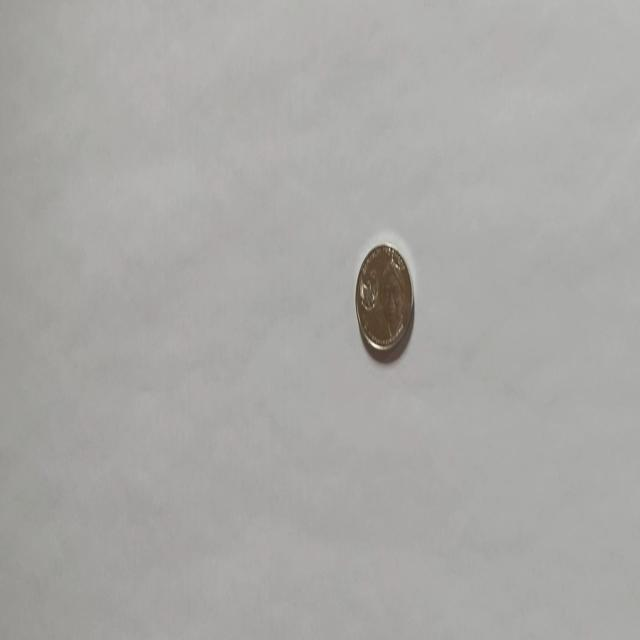dua ratus rupiah: (354, 242, 414, 354)
